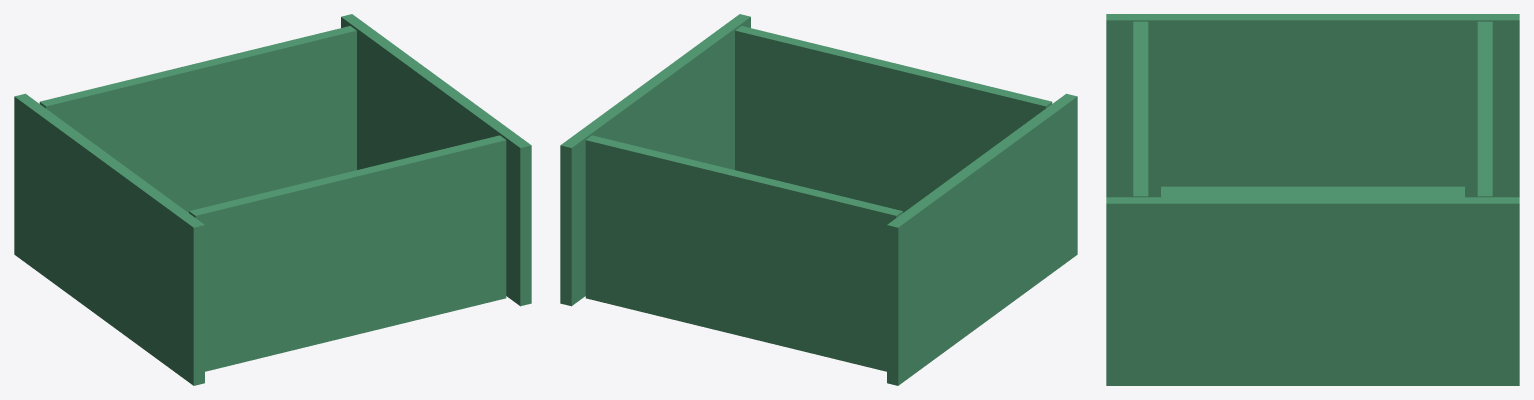
File: Title_stage.gltf
The picture shows the model from 3 angles, left to right: view 1: azimuth 30°, elevation 25°; view 2: azimuth 150°, elevation 25°; view 3: azimuth 270°, elevation 25°; orthographic projection. The views are drawn at different scales.
Parts seen in each view (by area): view 1: cube.001, cube.002, cube.003, cube.004; view 2: cube.002, cube.001, cube.003, cube.004; view 3: cube.004, cube.003, cube, cube.001, cube.002.
Boxes of the visible parts, x1=… form: cube.001: x1=189, y1=135, x2=506, y2=371; cube.002: x1=39, y1=26, x2=356, y2=212; cube.003: x1=14, y1=93, x2=204, y2=385; cube.004: x1=341, y1=14, x2=531, y2=306; cube.002: x1=585, y1=135, x2=902, y2=371; cube.001: x1=735, y1=26, x2=1052, y2=212; cube.003: x1=887, y1=93, x2=1077, y2=385; cube.004: x1=560, y1=14, x2=750, y2=306; cube.004: x1=1106, y1=197, x2=1519, y2=385; cube.003: x1=1106, y1=14, x2=1519, y2=197; cube: x1=1161, y1=186, x2=1464, y2=197; cube.001: x1=1133, y1=21, x2=1148, y2=197; cube.002: x1=1477, y1=21, x2=1492, y2=197.
Bounding box in the file's own units: 60 × 26.85 × 55.2.
